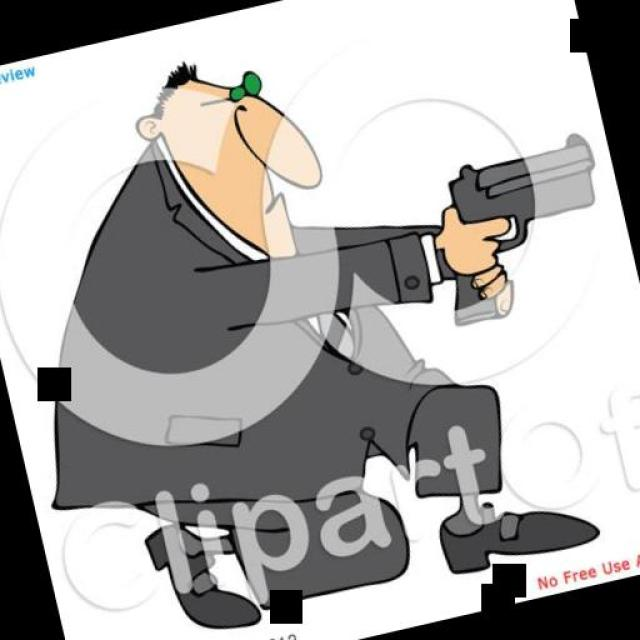gun: (418, 125, 624, 326)
